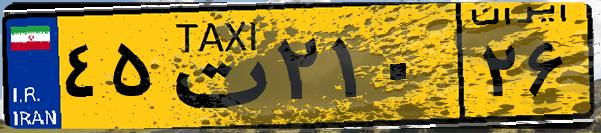0: (385, 28, 445, 110)
1: (330, 28, 385, 110)
2: (270, 28, 330, 110), (475, 38, 525, 113)
4: (57, 26, 110, 100)
5: (110, 28, 158, 98)
6: (525, 38, 570, 115)
ت: (158, 12, 270, 120)
